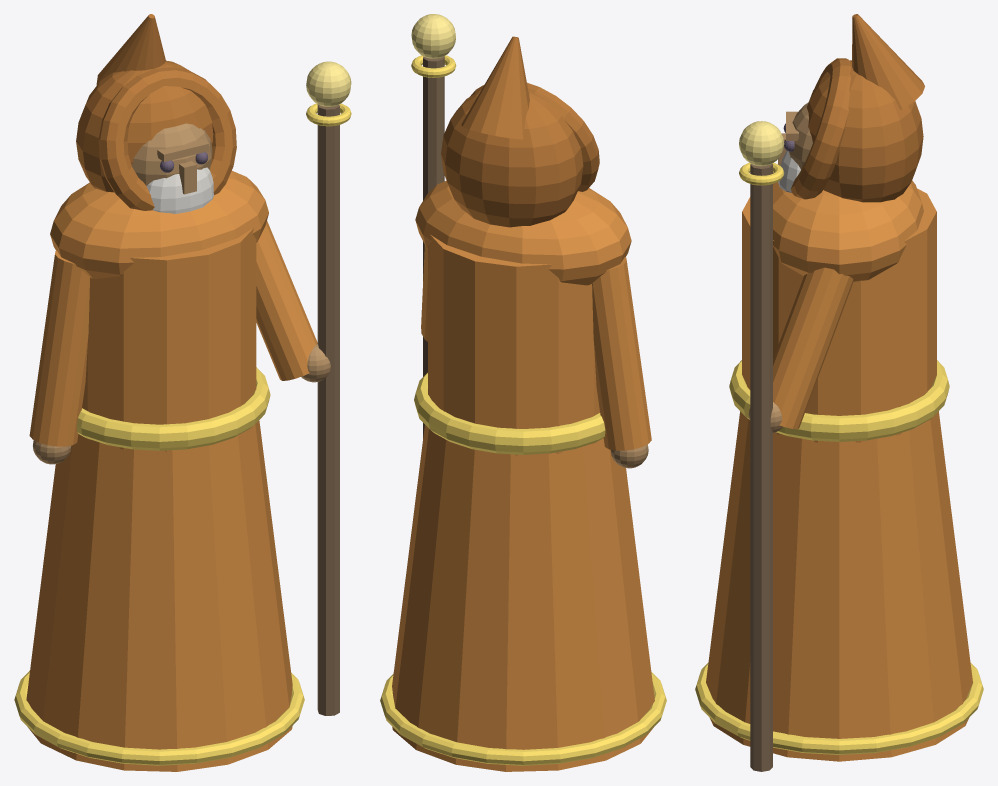
The model's file is truth_sage.fbx.
The picture shows the model from 3 angles, left to right: view 1: azimuth 30°, elevation 25°; view 2: azimuth 150°, elevation 25°; view 3: azimuth 270°, elevation 25°; orthographic projection.
Parts seen in each view (by area): view 1: truth_sage; view 2: truth_sage; view 3: truth_sage.
Boxes of the visible parts, x1,y1,x2,y2 form: truth_sage: [14, 14, 351, 771]; truth_sage: [380, 14, 666, 771]; truth_sage: [695, 14, 983, 771].
Bounding box in the file's own units: 0.979 × 2.34 × 0.89.
